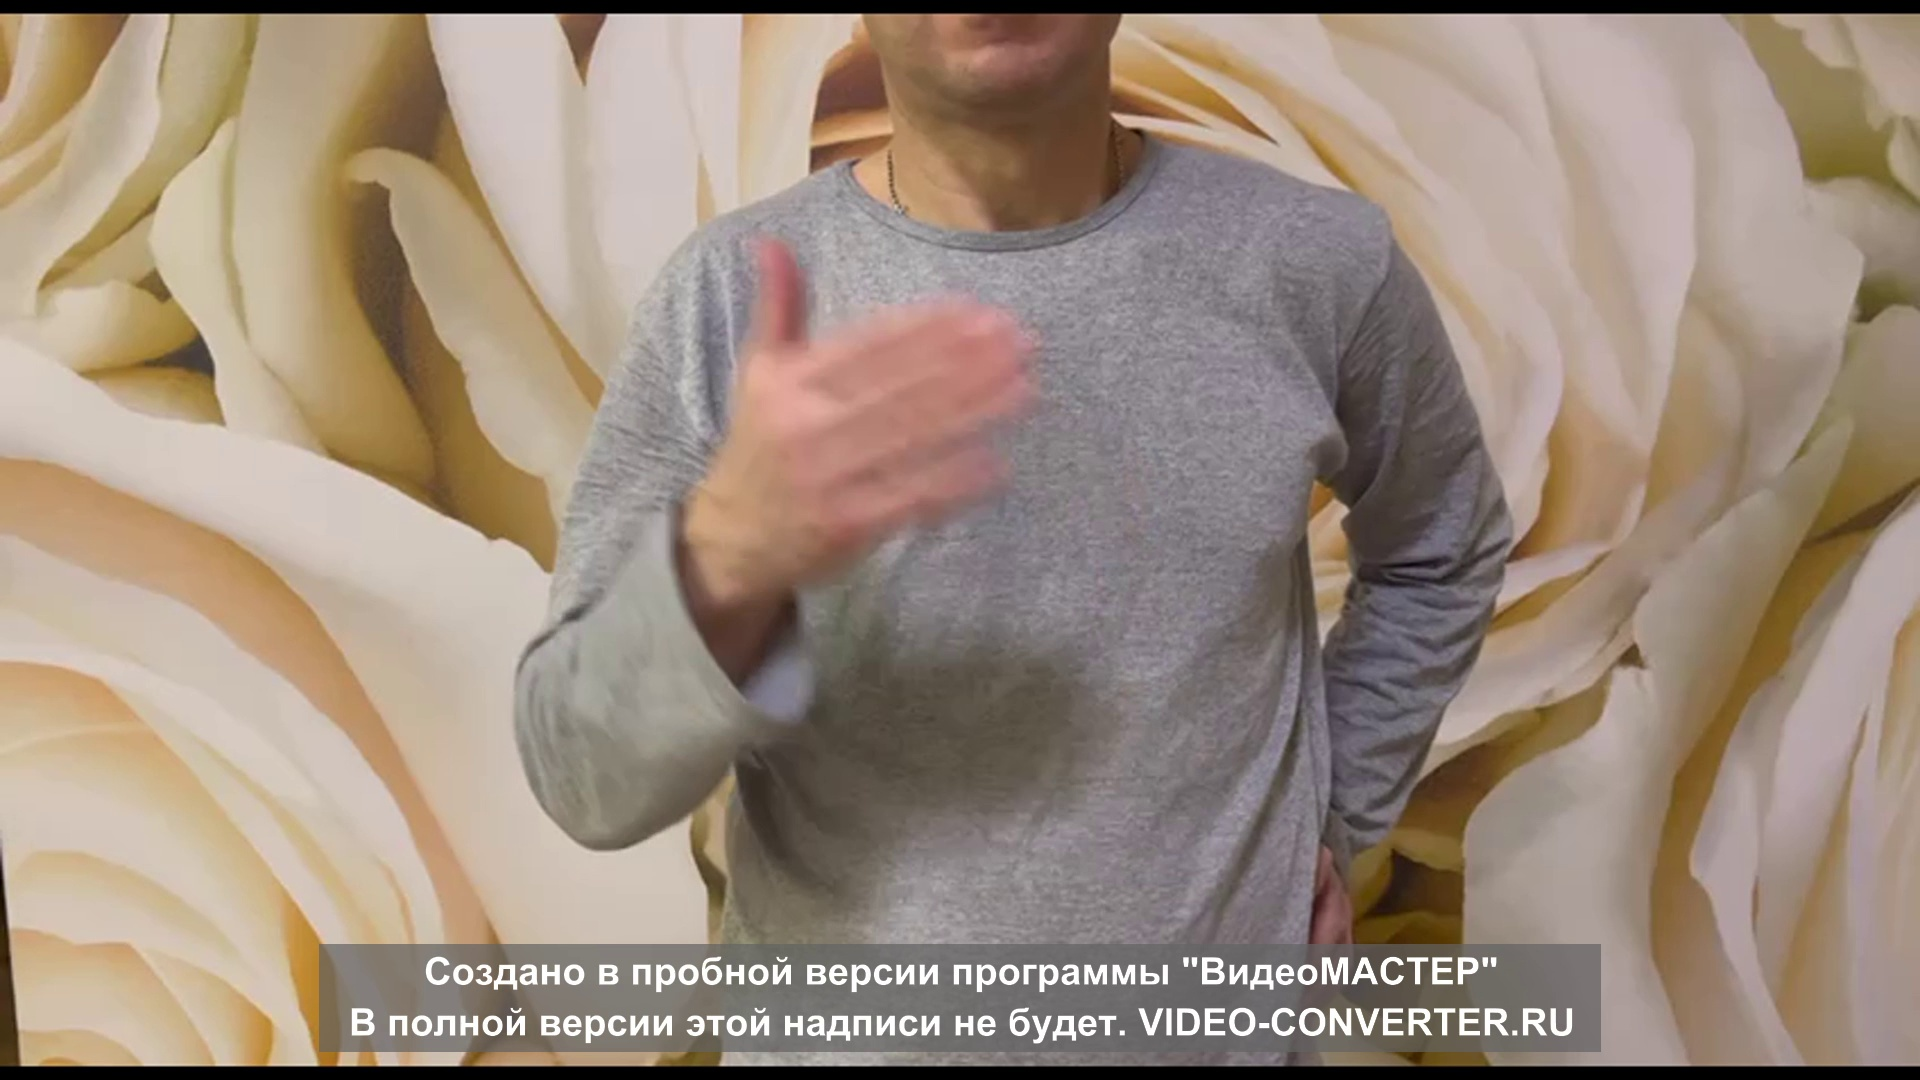Кисть: (711, 235, 1034, 596)
